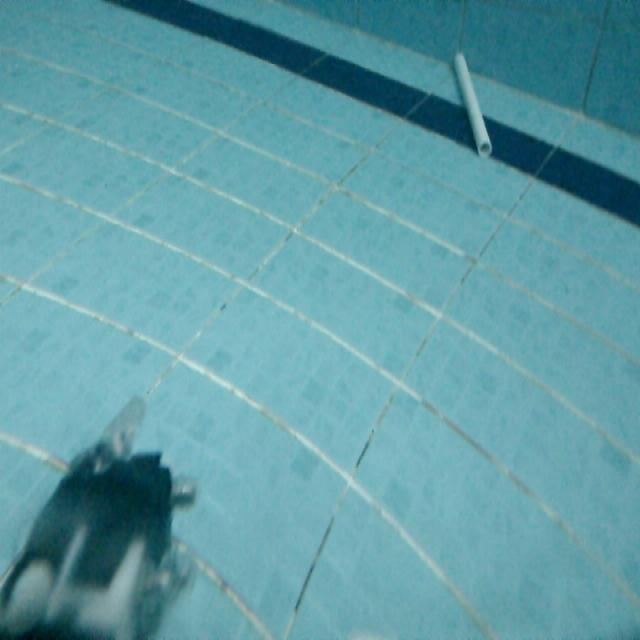Cube: (450, 45, 495, 160)
